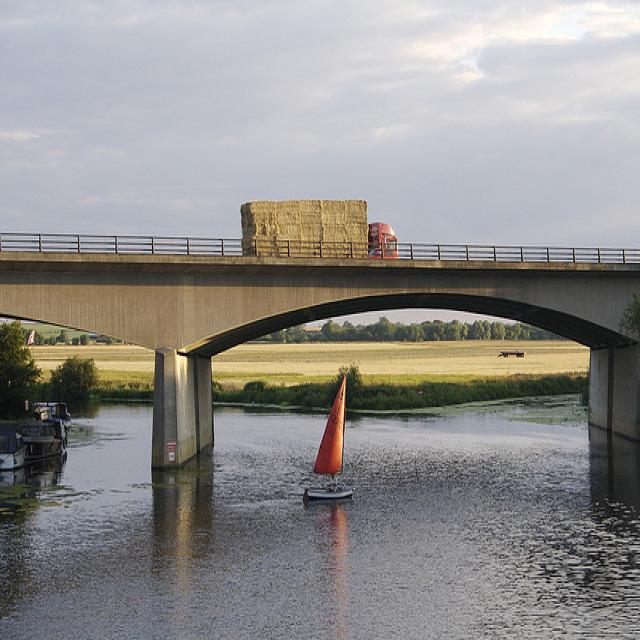Vehicle: (240, 200, 398, 259)
